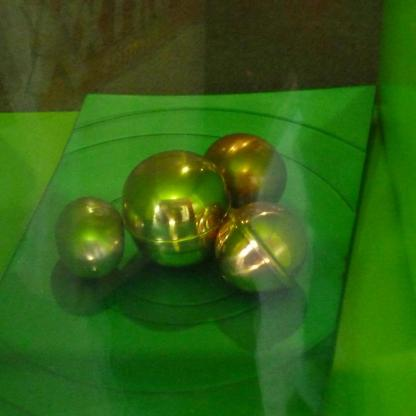Ball: (122, 149, 232, 268), (215, 202, 308, 293), (202, 134, 289, 208), (54, 197, 128, 283)
